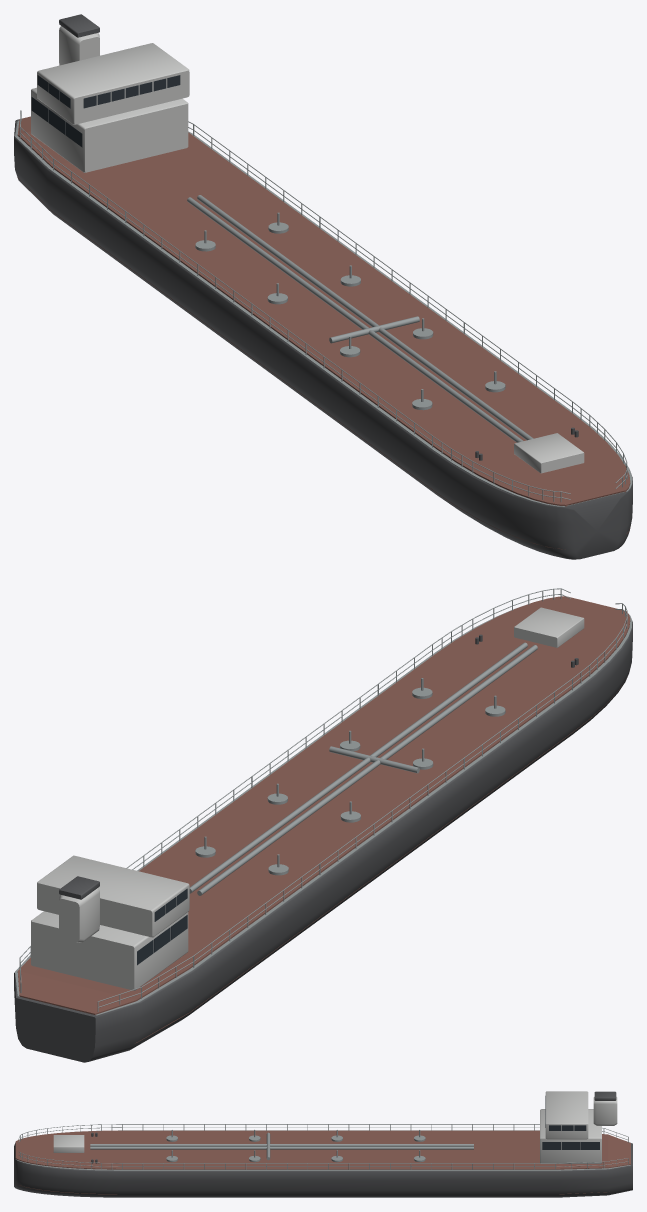
File: vessel-tanker.glb
3 renders of one model, top to bottom at view 1: azimuth 30°, elevation 25°; view 2: azimuth 150°, elevation 25°; view 3: azimuth 270°, elevation 25°, orthographic. The views are drawn at different scales.
Visible parts, largest first — view 1: vessel-tanker; view 2: vessel-tanker; view 3: vessel-tanker.
Boxes of the visible parts, left/top/right/bottom form: vessel-tanker: left=14, top=14, right=632, bottom=559; vessel-tanker: left=14, top=588, right=632, bottom=1062; vessel-tanker: left=14, top=1091, right=632, bottom=1197.
Size of the model in its own units: 14 by 14 by 90.
